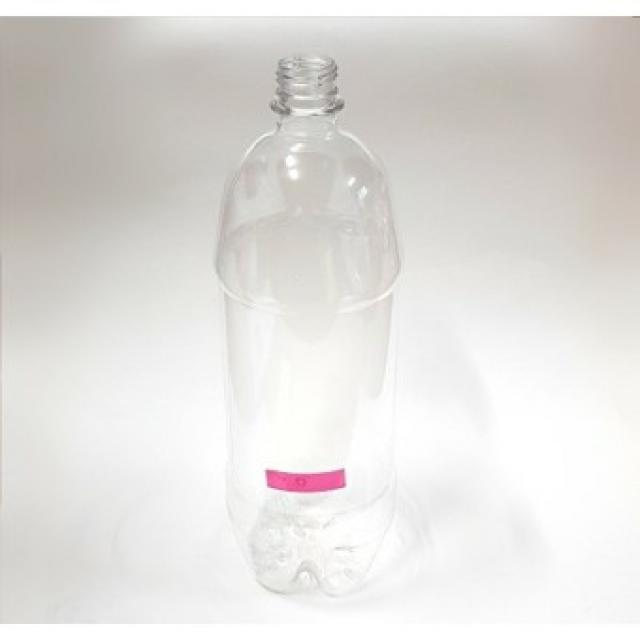plastic bottle: (211, 54, 401, 596)
